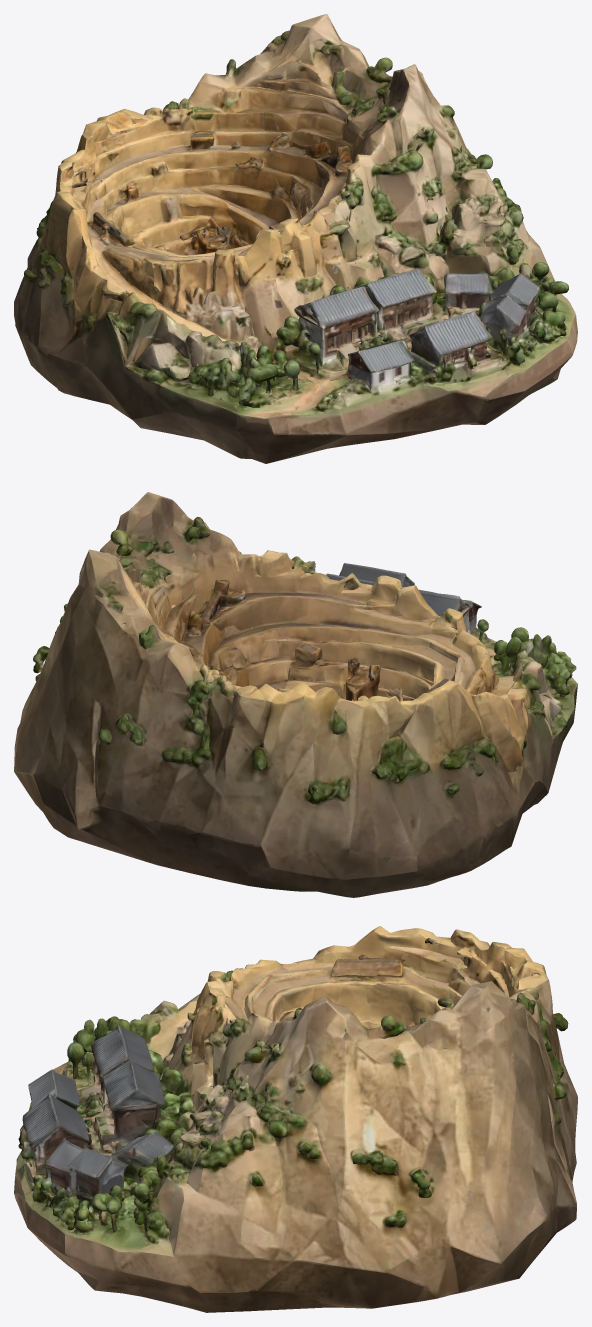
File: shan_mined.min.glb
3 views of the same model, one above another, from view 1: azimuth 30°, elevation 25°; view 2: azimuth 150°, elevation 25°; view 3: azimuth 270°, elevation 25° (orthographic). The views are drawn at different scales.
Visible parts, largest first — view 1: geometry_0; view 2: geometry_0; view 3: geometry_0.
Part boxes in pixels (box(x1,y1,x2,y2)): geometry_0: box(14, 14, 577, 463); geometry_0: box(14, 492, 577, 897); geometry_0: box(14, 926, 577, 1312).
Size of the model in its own units: 0.45 by 0.2542 by 0.4505.
Materials: 1 (1 with a texture image).
